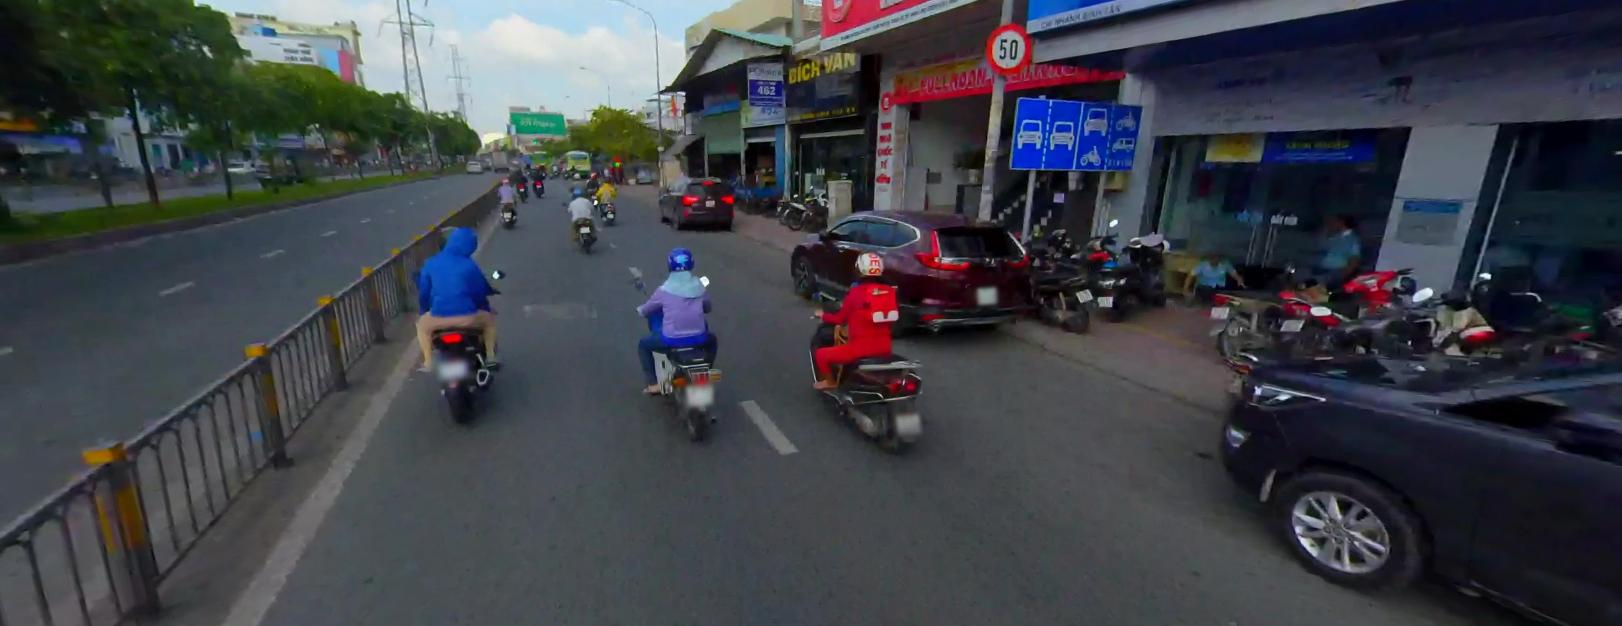Gioi han toc do: (984, 22, 1032, 75)
